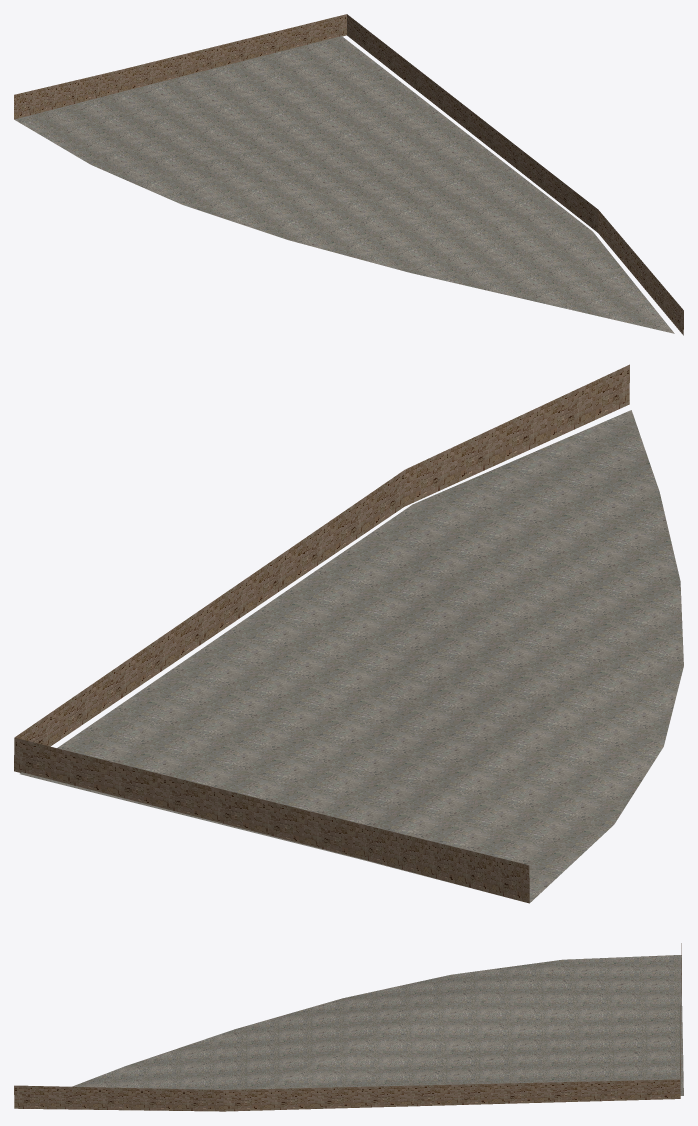
Rendered from lodlwbldgrd_lvs.obj.
The picture shows the model from 3 angles, top to bottom: view 1: azimuth 30°, elevation 25°; view 2: azimuth 150°, elevation 25°; view 3: azimuth 270°, elevation 25°; orthographic projection. The views are drawn at different scales.
Parts seen in each view (by area): view 1: lodlwbldgrd_lvs; view 2: lodlwbldgrd_lvs; view 3: lodlwbldgrd_lvs.
Part boxes in pixels (box(x1,y1,x2,y2)): lodlwbldgrd_lvs: box(14, 14, 683, 335); lodlwbldgrd_lvs: box(14, 364, 683, 903); lodlwbldgrd_lvs: box(14, 943, 683, 1111).
Size of the model in its own units: 30.48 by 4.09 by 58.54.
2 materials, 2 textured.
